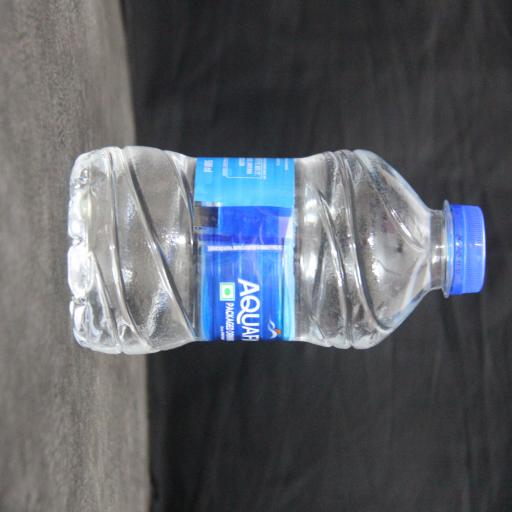Aquafina: (100, 39, 233, 512)
